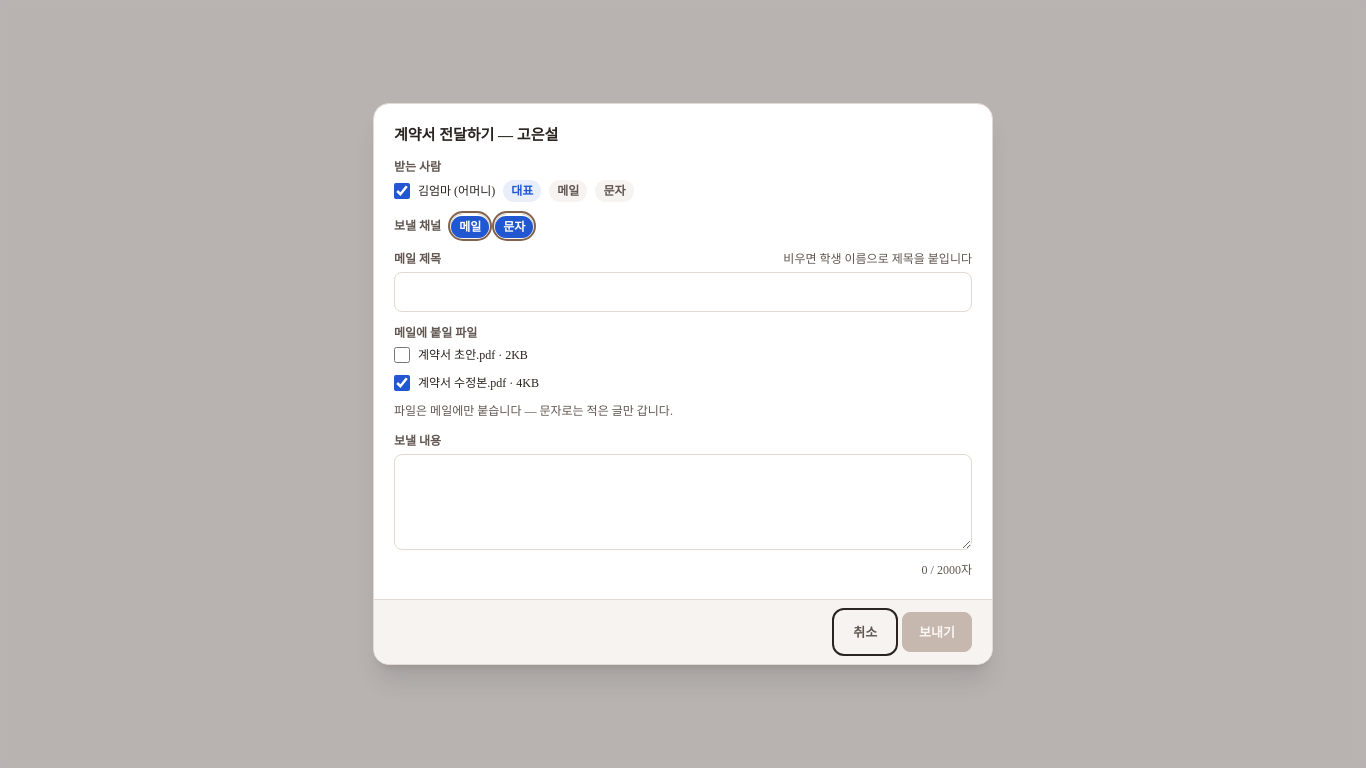
파일을 하나도 고르지 않았거나 메일을 빼면 까닭을 띄우고 보내기를 잠근다 — 파일은 문자로 가지 않는다
This screenshot has width=1366, height=768.
Expected: the checkbox labelled "김엄마 (어머니)" is checked, [394, 183, 410, 199]
Type "계약서입니다" into the text box labelled "보낼 내용" at (683, 502), box [394, 454, 972, 550]
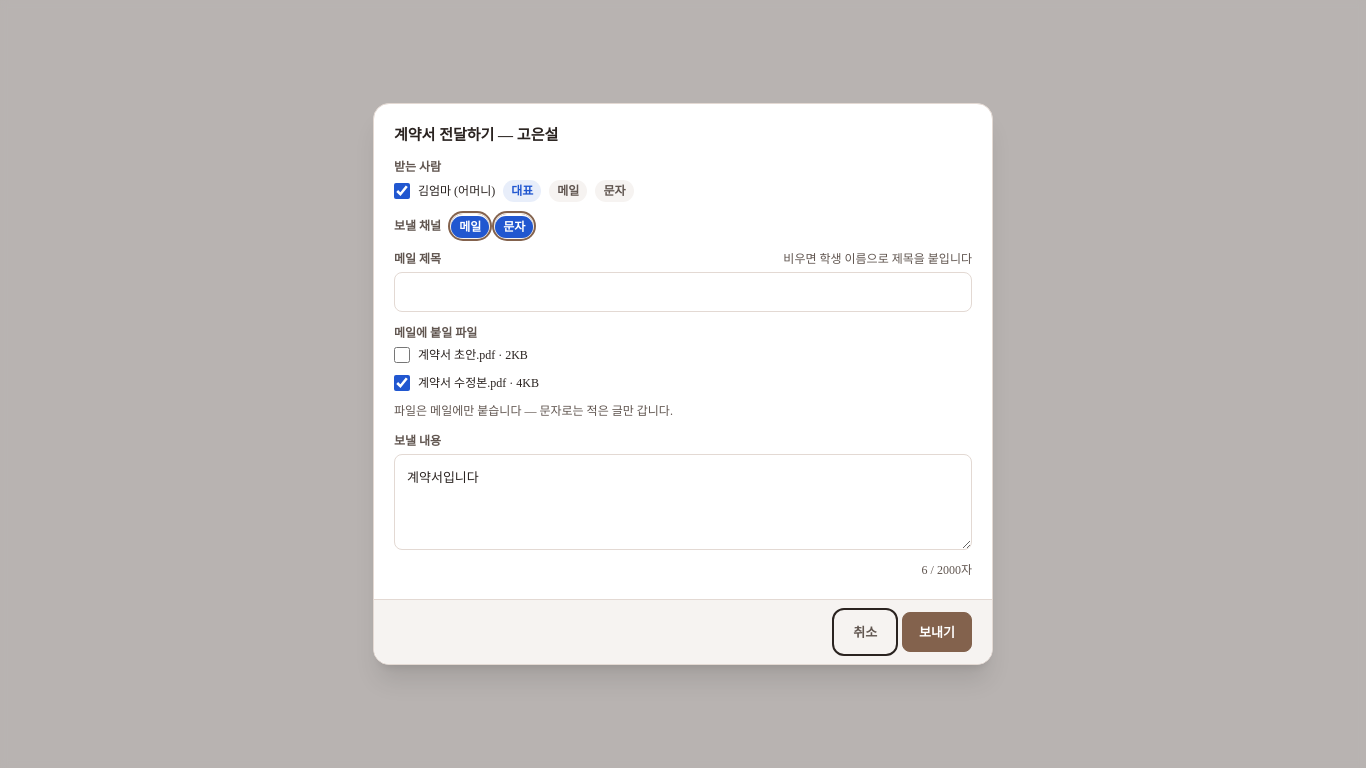
Expected: the button "보내기" is enabled, [902, 612, 972, 652]
Click the checkbox labelled "계약서 수정본.pdf · 4KB" at (402, 383), box [394, 375, 410, 391]
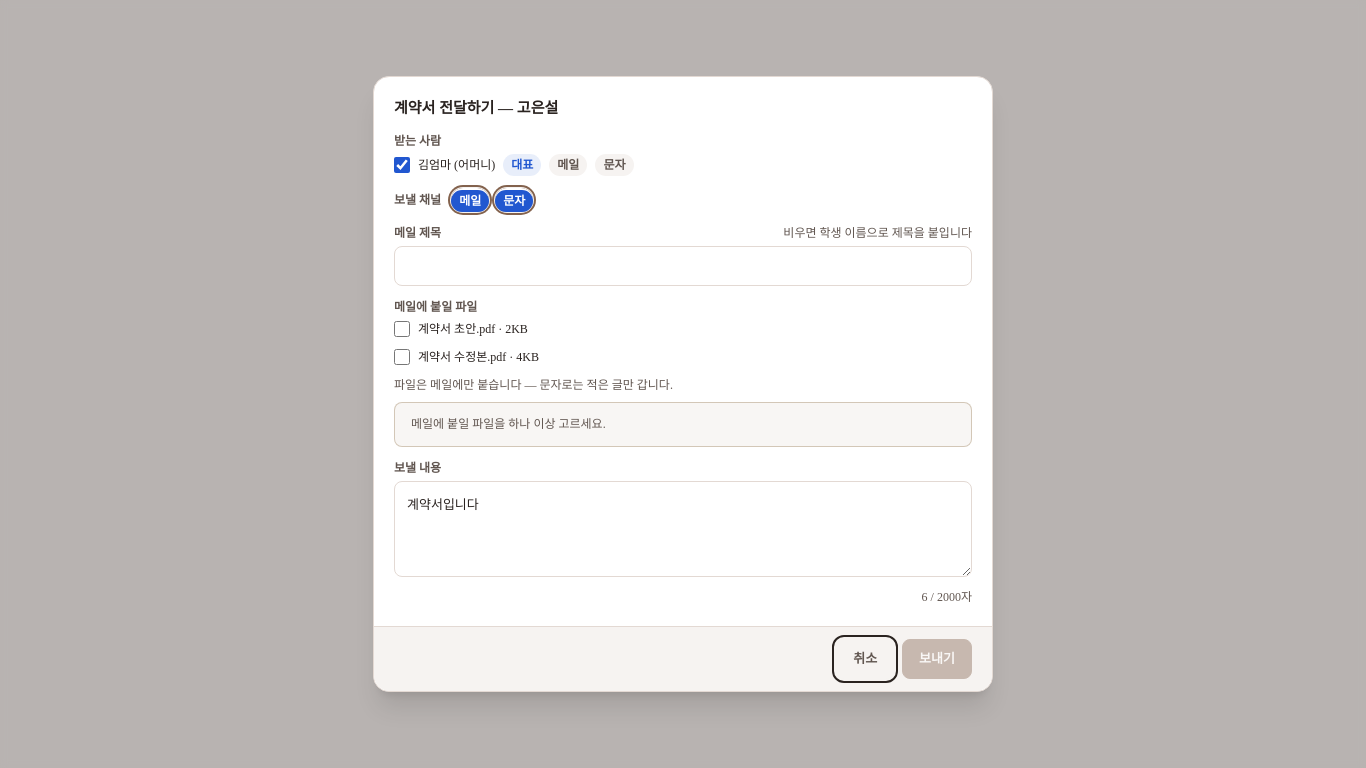
Expected: the text "메일에 붙일 파일을 하나 이상 고르세요." is shown, [394, 402, 972, 447]
Expected: the button "보내기" is disabled, [902, 639, 972, 679]
Click the checkbox labelled "계약서 초안.pdf · 2KB" at (402, 328), box [394, 320, 410, 336]
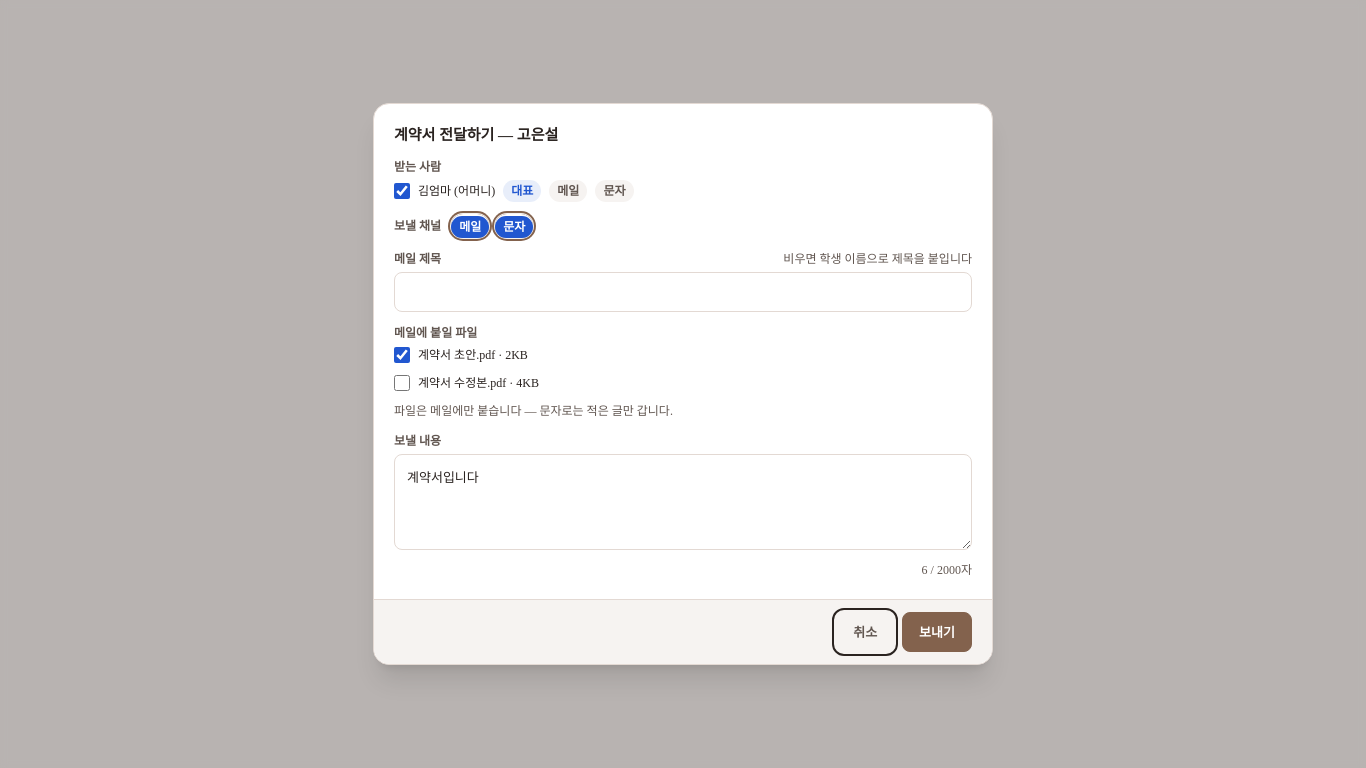
Click the button "메일" at (470, 226), box [451, 214, 489, 238]
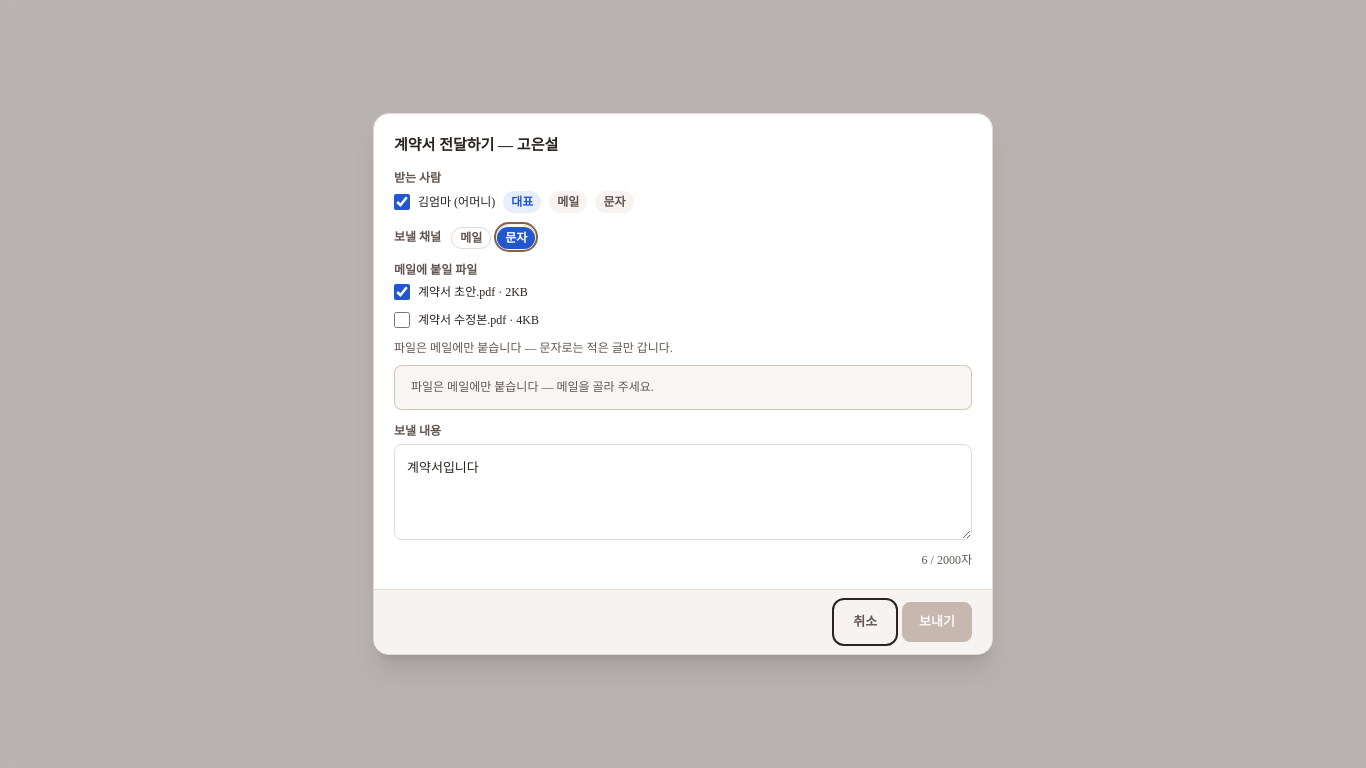
Expected: the text "파일은 메일에만 붙습니다 — 메일을 골라 주세요." is shown, [394, 364, 972, 410]
Expected: the button "보내기" is disabled, [902, 602, 972, 642]
